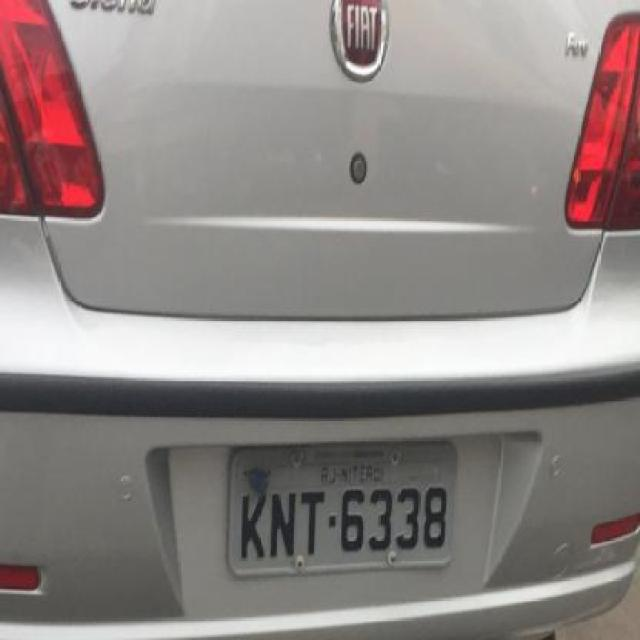old_plate: (220, 435, 462, 582)
